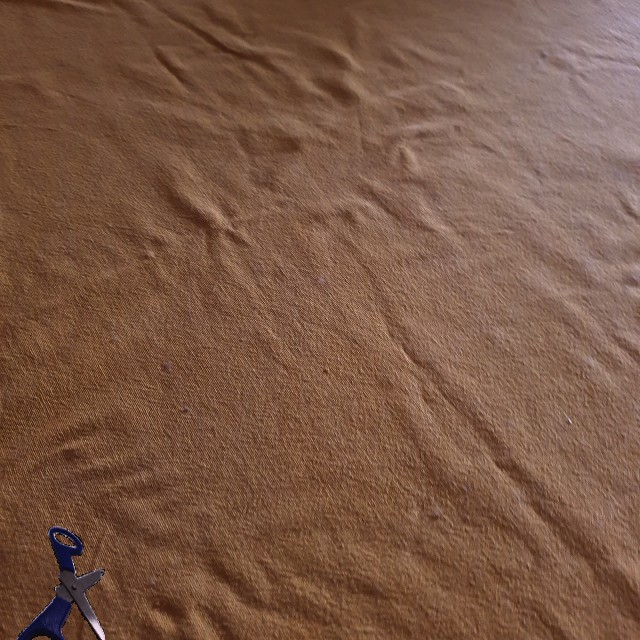scissors: (14, 526, 105, 640)
